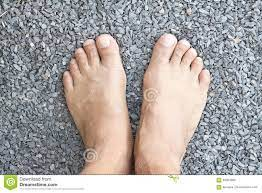feet: (60, 31, 133, 164), (142, 30, 211, 169)
